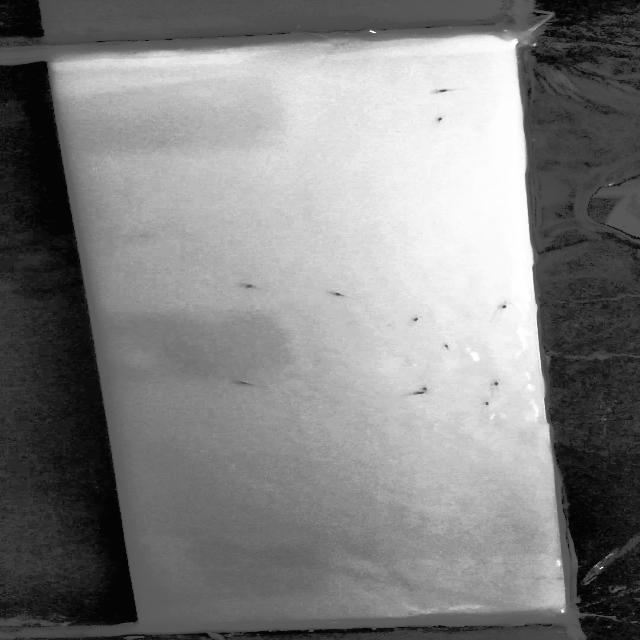shrimp: (424, 82, 466, 95), (235, 378, 272, 388), (436, 341, 458, 355), (493, 300, 515, 314), (237, 280, 267, 290), (328, 288, 355, 299), (403, 388, 431, 398), (475, 399, 499, 409), (404, 313, 426, 323), (486, 377, 505, 388), (430, 113, 450, 123), (414, 384, 432, 391)
